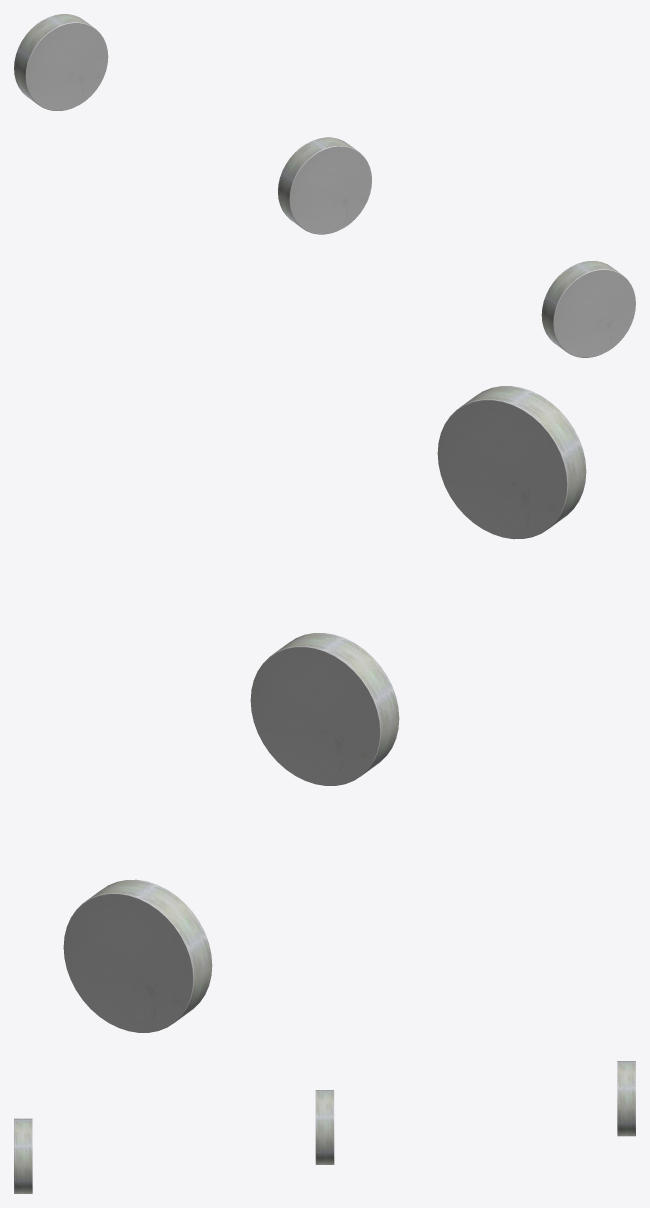
The model's file is preview.glb.
The picture shows the model from 3 angles, top to bottom: view 1: azimuth 30°, elevation 25°; view 2: azimuth 150°, elevation 25°; view 3: azimuth 270°, elevation 25°; orthographic projection. The views are drawn at different scales.
Parts seen in each view (by area): view 1: Material2, Material3 (×2); view 2: Material2, Material3 (×2); view 3: Material3 (×2).
Boxes of the visible parts, x1=… form: Material2: x1=26, y1=23, x2=635, y2=357; Material3 (×2): x1=14, y1=14, x2=635, y2=357; Material2: x1=64, y1=400, x2=567, y2=1032; Material3 (×2): x1=63, y1=386, x2=586, y2=1032; Material3 (×2): x1=14, y1=1061, x2=635, y2=1193.
Bounding box in the file's own units: 217 × 80.81 × 650.
Materials: 3 (3 with a texture image).
